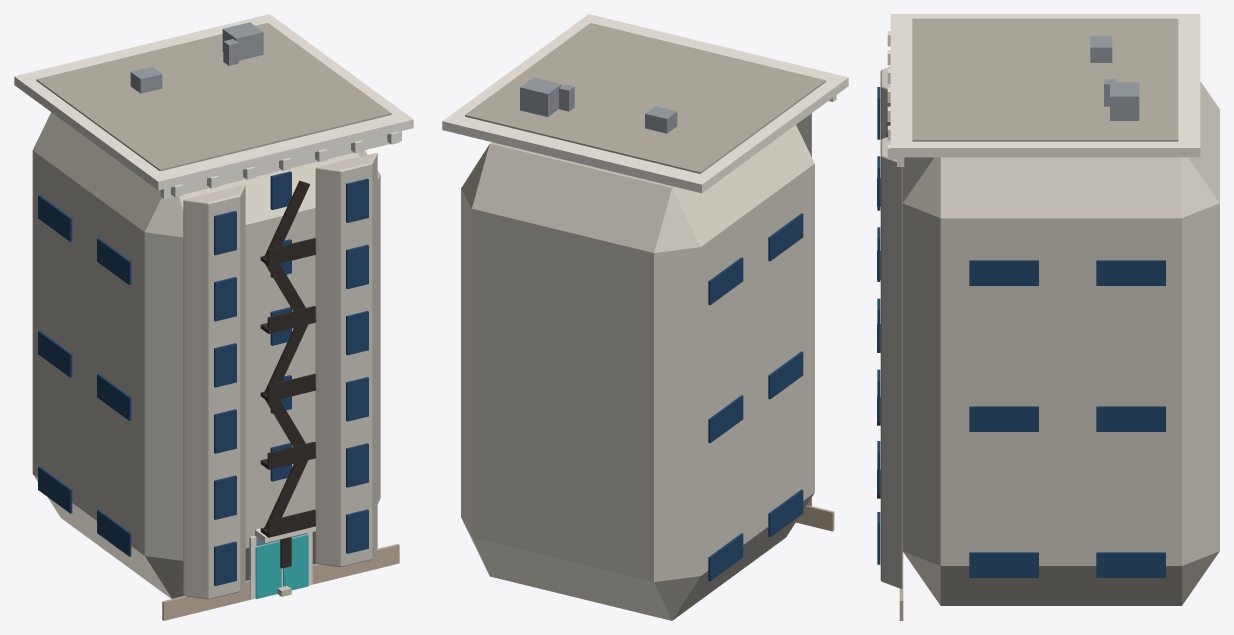
Rendered from aptfe_w12_f6.glb.
3 renders of one model, left to right at view 1: azimuth 30°, elevation 25°; view 2: azimuth 150°, elevation 25°; view 3: azimuth 270°, elevation 25°, orthographic. The views are drawn at different scales.
Visible parts, largest first — view 1: walls, roofslab, bay, bay.001, corn, bsmt, frieze, door, door.001, hvac2, bw, bw.003 (+29 smaller); view 2: walls, roofslab, corn, hvac2, sb, sb.002, sb.004, sb.008, sb.006, sb.010, hvac, bsmt; view 3: walls, roofslab, corn, bay.001, sb.001, sb.003, sb.005, sb.007, sb.009, sb.011, hvac2, hvac (+1 smaller).
Boxes of the visible parts, x1,y1,x2,y2 form: walls: [32, 112, 380, 598]; roofslab: [36, 23, 391, 171]; bay: [183, 185, 245, 599]; bay.001: [315, 153, 377, 567]; corn: [14, 14, 413, 190]; bsmt: [162, 544, 399, 620]; frieze: [160, 131, 401, 198]; door: [255, 541, 281, 598]; door.001: [283, 534, 308, 590]; hvac2: [222, 22, 263, 60]; bw: [214, 541, 236, 585]; bw.003: [214, 343, 236, 387]; walls: [461, 125, 814, 620]; roofslab: [465, 23, 825, 173]; corn: [442, 14, 848, 193]; hvac2: [520, 77, 561, 116]; sb: [768, 489, 803, 537]; sb.002: [708, 533, 743, 581]; sb.004: [768, 351, 803, 399]; sb.008: [768, 213, 803, 261]; sb.006: [708, 395, 743, 443]; sb.010: [708, 257, 743, 305]; hvac: [645, 106, 677, 133]; bsmt: [796, 505, 834, 531]; walls: [902, 81, 1219, 605]; roofslab: [912, 18, 1178, 141]; corn: [890, 14, 1200, 157]; bay.001: [880, 137, 902, 589]; sb.001: [969, 552, 1038, 577]; sb.003: [1096, 552, 1165, 577]; sb.005: [969, 406, 1038, 431]; sb.007: [1096, 406, 1165, 431]; sb.009: [969, 260, 1038, 285]; sb.011: [1096, 260, 1165, 285]; hvac2: [1110, 82, 1139, 120]; hvac: [1090, 36, 1112, 62].
Bounding box in the file's own units: 13 × 22.8 × 14.05.
